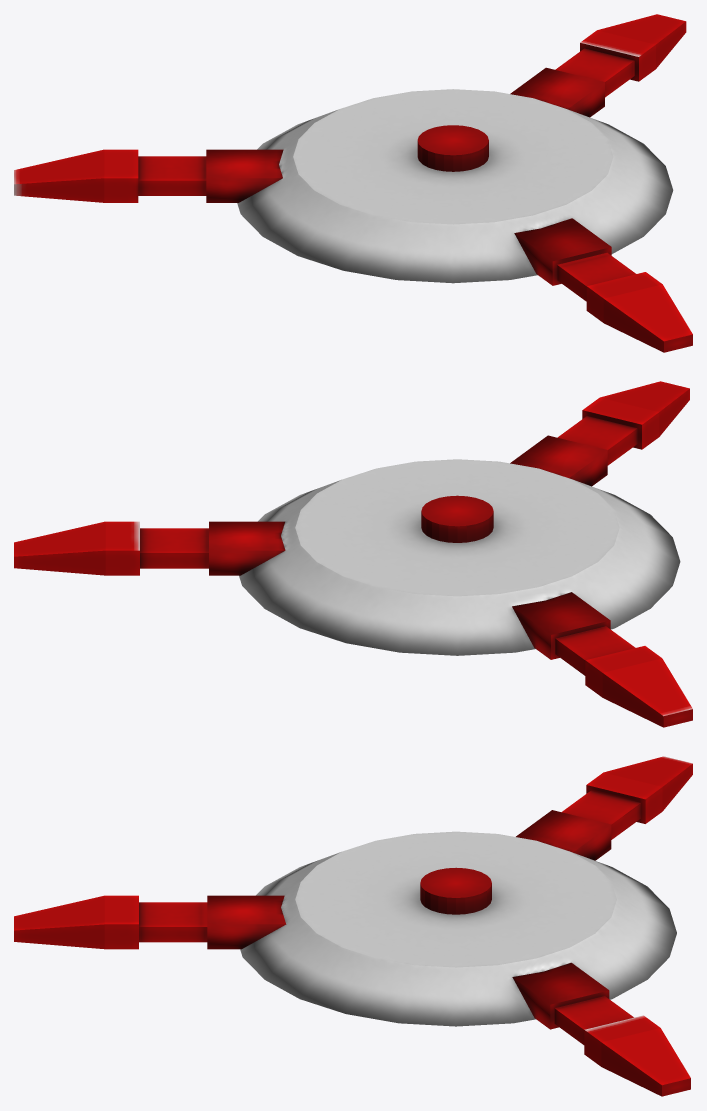
Rendered from mine2.obj.
3 renders of one model, top to bottom at view 1: azimuth 30°, elevation 25°; view 2: azimuth 150°, elevation 25°; view 3: azimuth 270°, elevation 25°, orthographic.
Parts seen in each view (by area): view 1: Box006.005; view 2: Box006.005; view 3: Box006.005.
Boxes of the visible parts, x1,y1,x2,y2 form: Box006.005: (14, 14, 692, 352); Box006.005: (14, 381, 692, 727); Box006.005: (14, 756, 692, 1096).
Size of the model in its own units: 9.77 by 0.695 by 8.52.
1 material, 1 textured.
